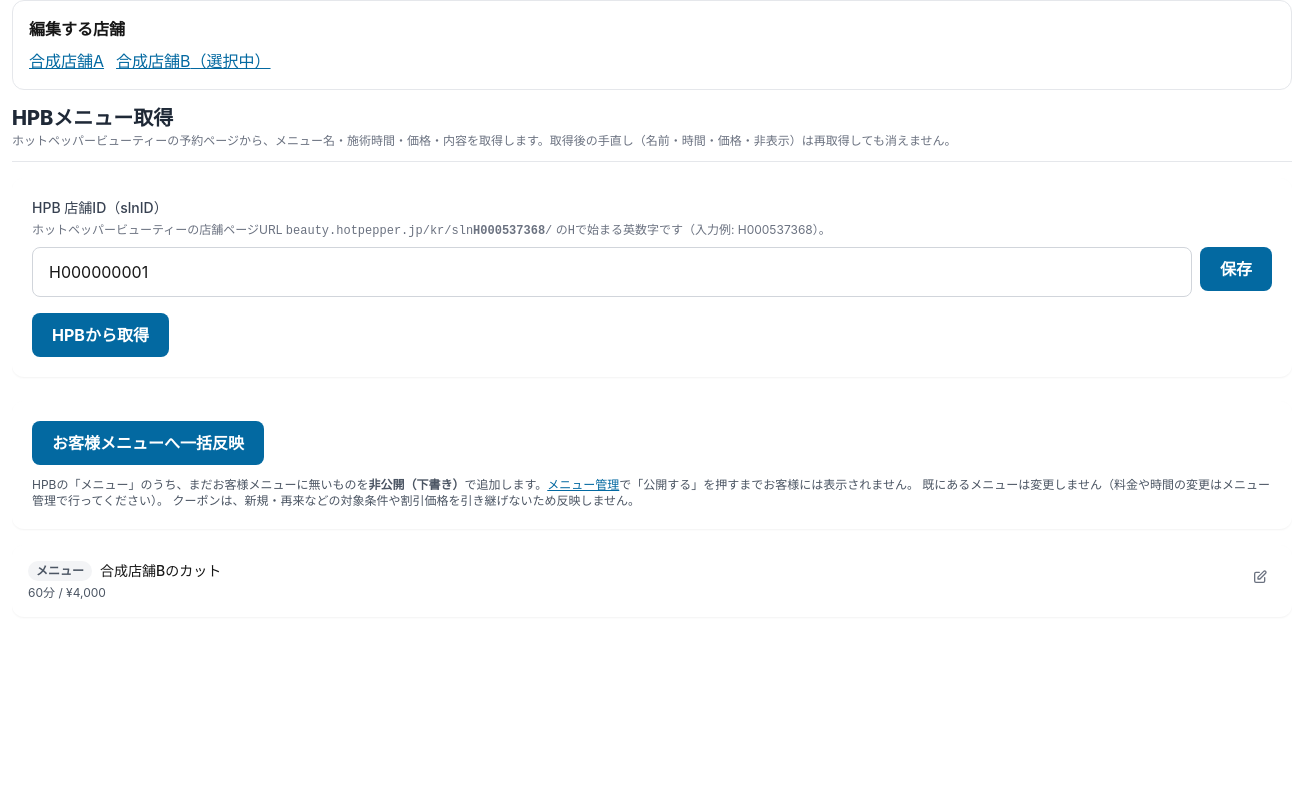
Test: 選んだ店舗の店舗ID・メニューを読み、取得・反映もその店舗に対して行う
The width and height of the screenshot is (1292, 800).
Expected: the text "合成店舗Bのカット" is shown, [100,561,221,581]
Expected: the link "合成店舗B（選択中）" is shown, [116,51,270,71]
Step 1. Click the button "お客様メニューへ一括反映" → (148, 443), box [32,421,264,465]
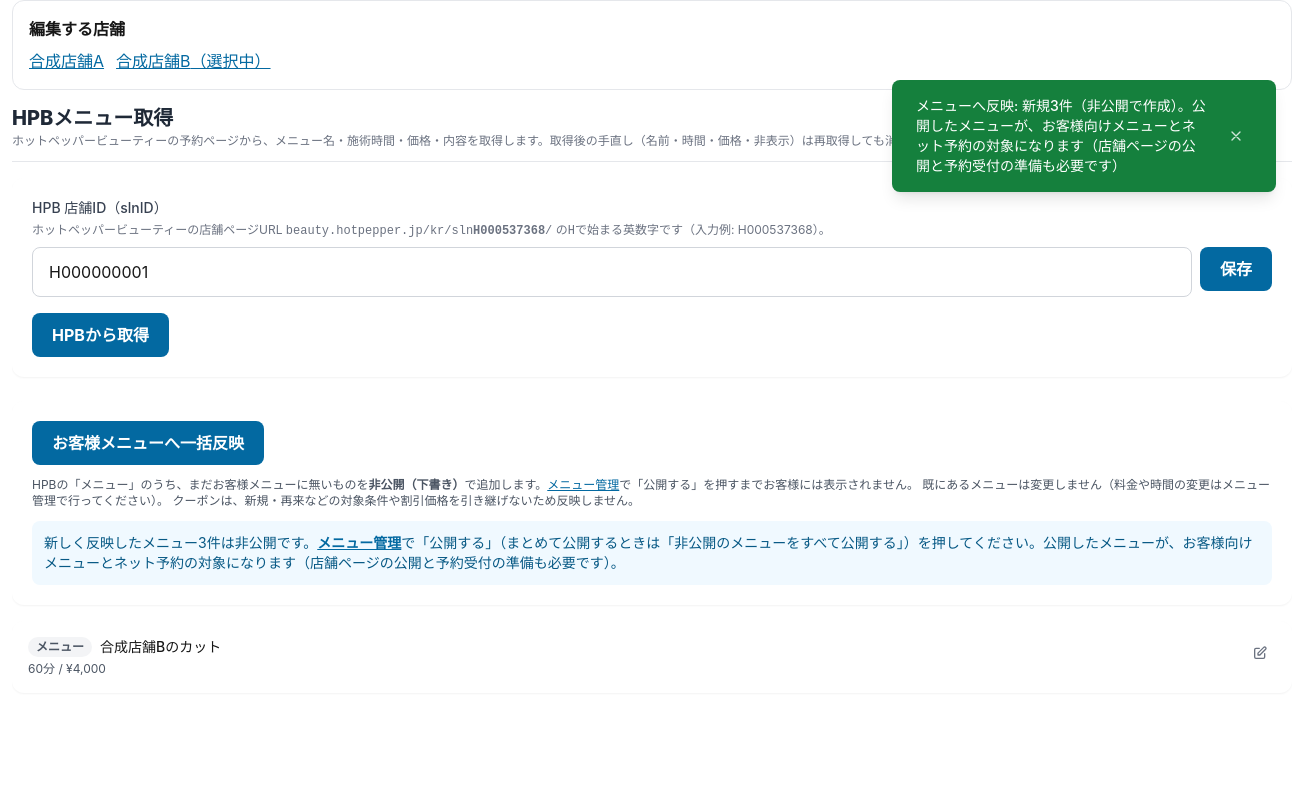
Now the text "メニューへ反映: 新規3件" is shown, box [916,97,1206,174]
